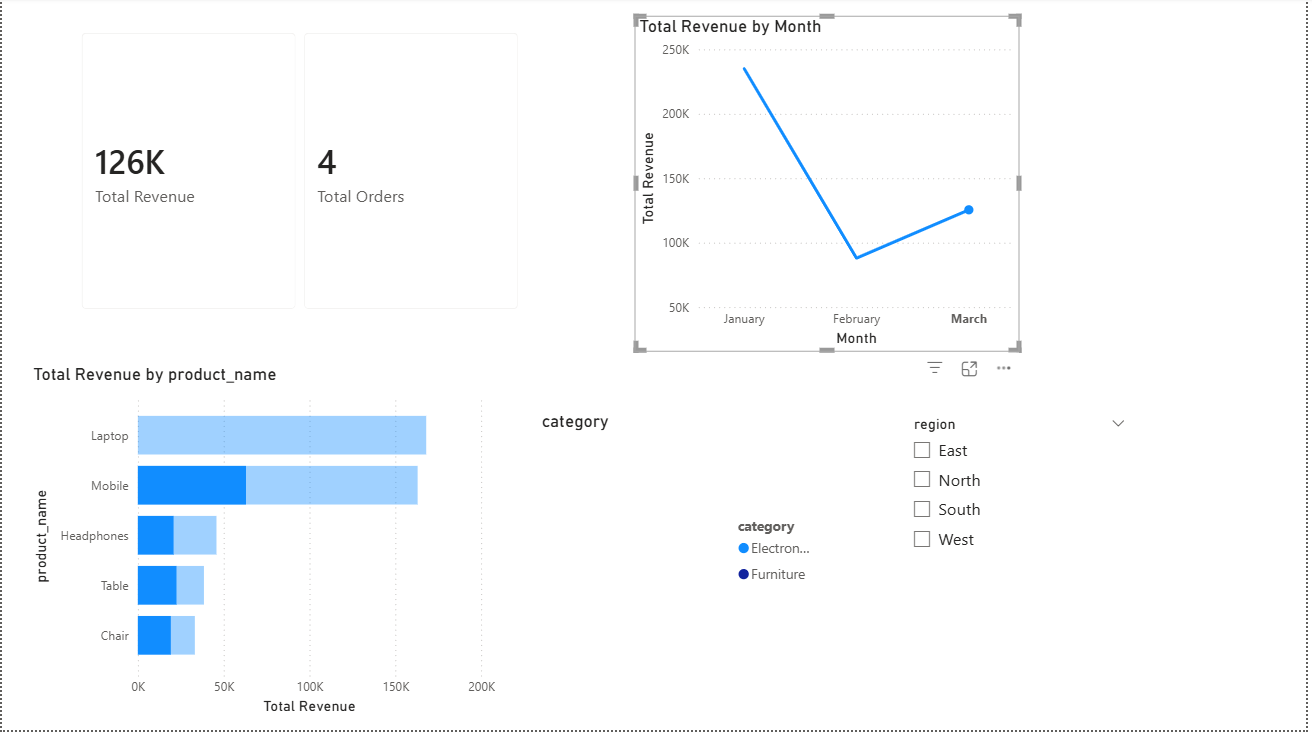

Layout of this report page (visuals, bound fields, positions):
{"tool":"powerbi","page":{"name":"Page 1","canvas":[1280,720],"ordinal":0},"visuals":[{"type":"lineChart","fields":{"Category":["sales.order_date.Variation.Date Hierarchy.Month"],"Y":["sales.Total Revenue"]},"box":[621.2,18.8,377.5,330],"z":3},{"type":"clusteredBarChart","fields":{"Category":["sales.product_name"],"Y":["sales.Total Revenue"]},"box":[26.2,360,463.8,350],"z":5},{"type":"pieChart","fields":{"Category":["sales.category"]},"box":[525,406.2,285,257.5],"z":6},{"type":"slicer","fields":{"Values":["sales.region"]},"box":[882.5,406.2,232.5,250],"z":7},{"type":"cardVisual","fields":{"Data":["sales.Total Revenue","sales.Total Orders"]},"box":[61.2,18.8,463.8,305],"z":8}]}

Visuals, with their boxes in screenshot pixels (x1, y1, x2, y2), scaled from the page's 1280x720 canvas onto the 1312x732 screenshot:
lineChart - sales.order_date.Variation.Date Hierarchy.Month x sales.Total Revenue: select_region(637, 19, 1024, 355)
clusteredBarChart - sales.product_name x sales.Total Revenue: select_region(27, 366, 502, 722)
pieChart - sales.category: select_region(538, 413, 830, 675)
slicer - sales.region: select_region(905, 413, 1143, 667)
cardVisual - sales.Total Revenue x sales.Total Orders: select_region(63, 19, 538, 329)
